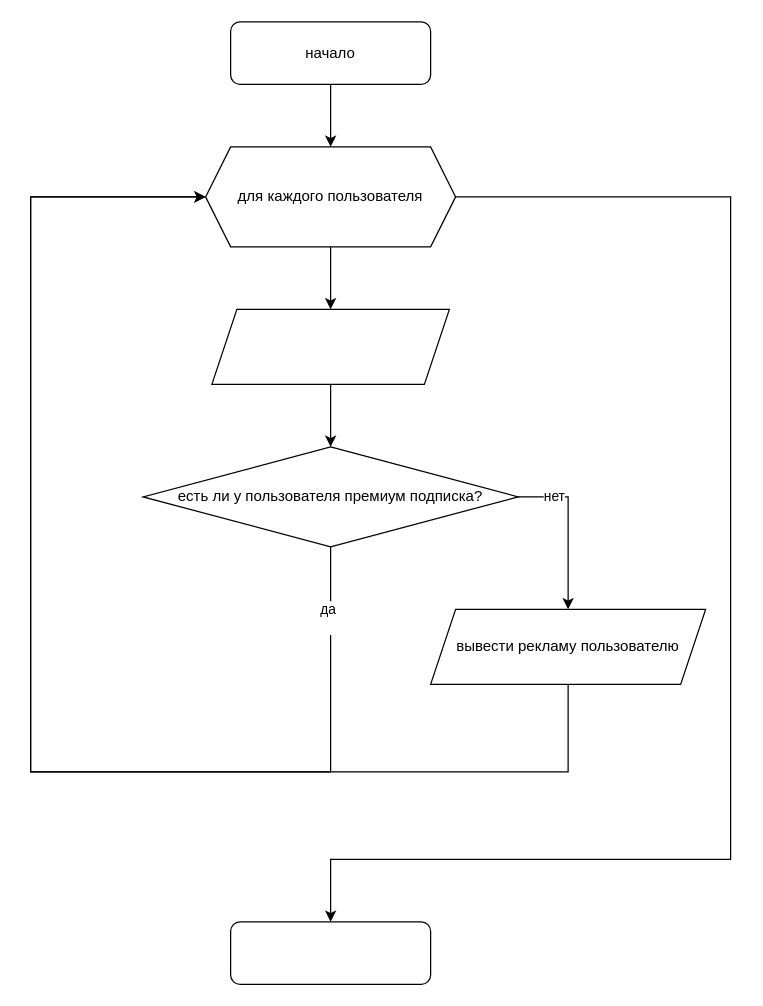
This 763x1006 diagram has some shape labels left out. The shapes that lost their labels are listed below. From the top down, each one's box as (x1, y1, x2, y2) in pixels, then its label:
(211, 308, 449, 384): вывести имя пользователя
(229, 921, 431, 984): конец
